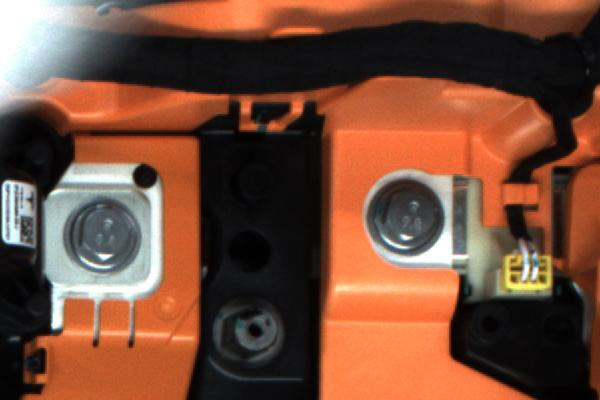nut_b: (55, 192, 149, 280), (360, 174, 445, 254)
